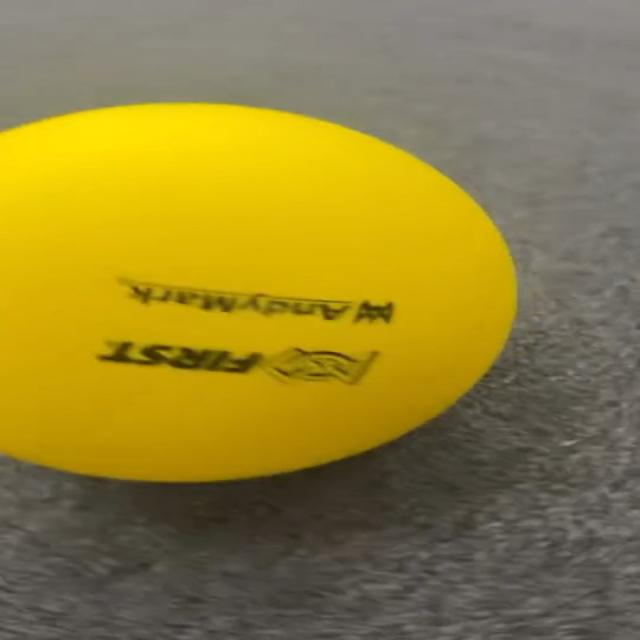Fuels: (3, 106, 515, 479)
